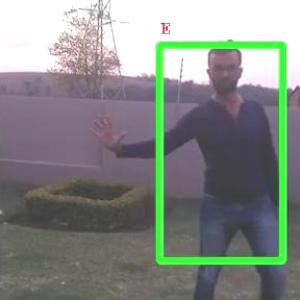follow_hand: (84, 112, 126, 152)
